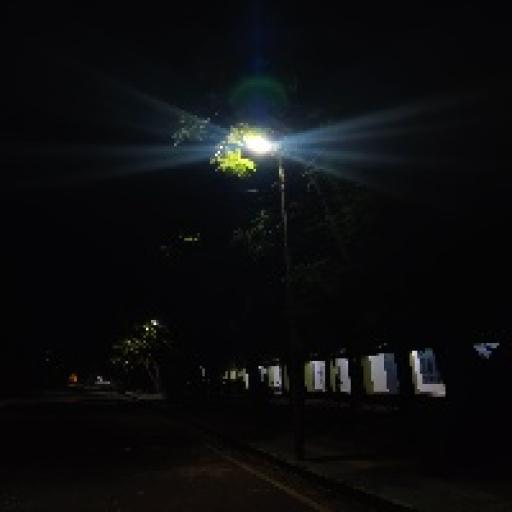Working: (238, 130, 282, 160)
